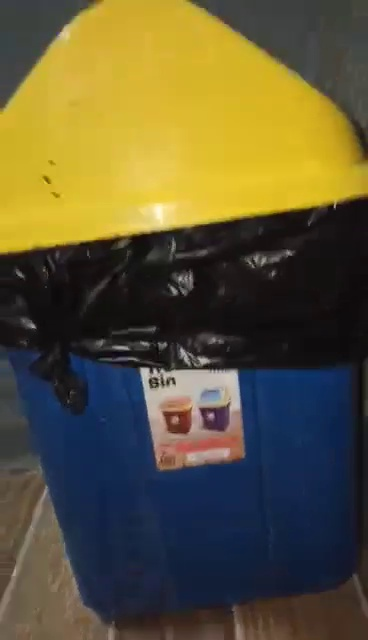garbagebin: (1, 1, 368, 622)
